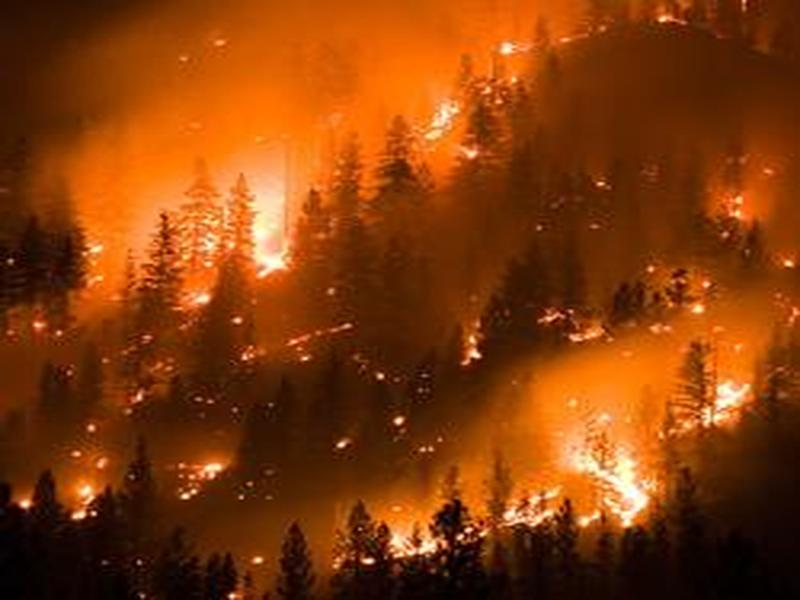FIRE: (21, 206, 745, 558)
